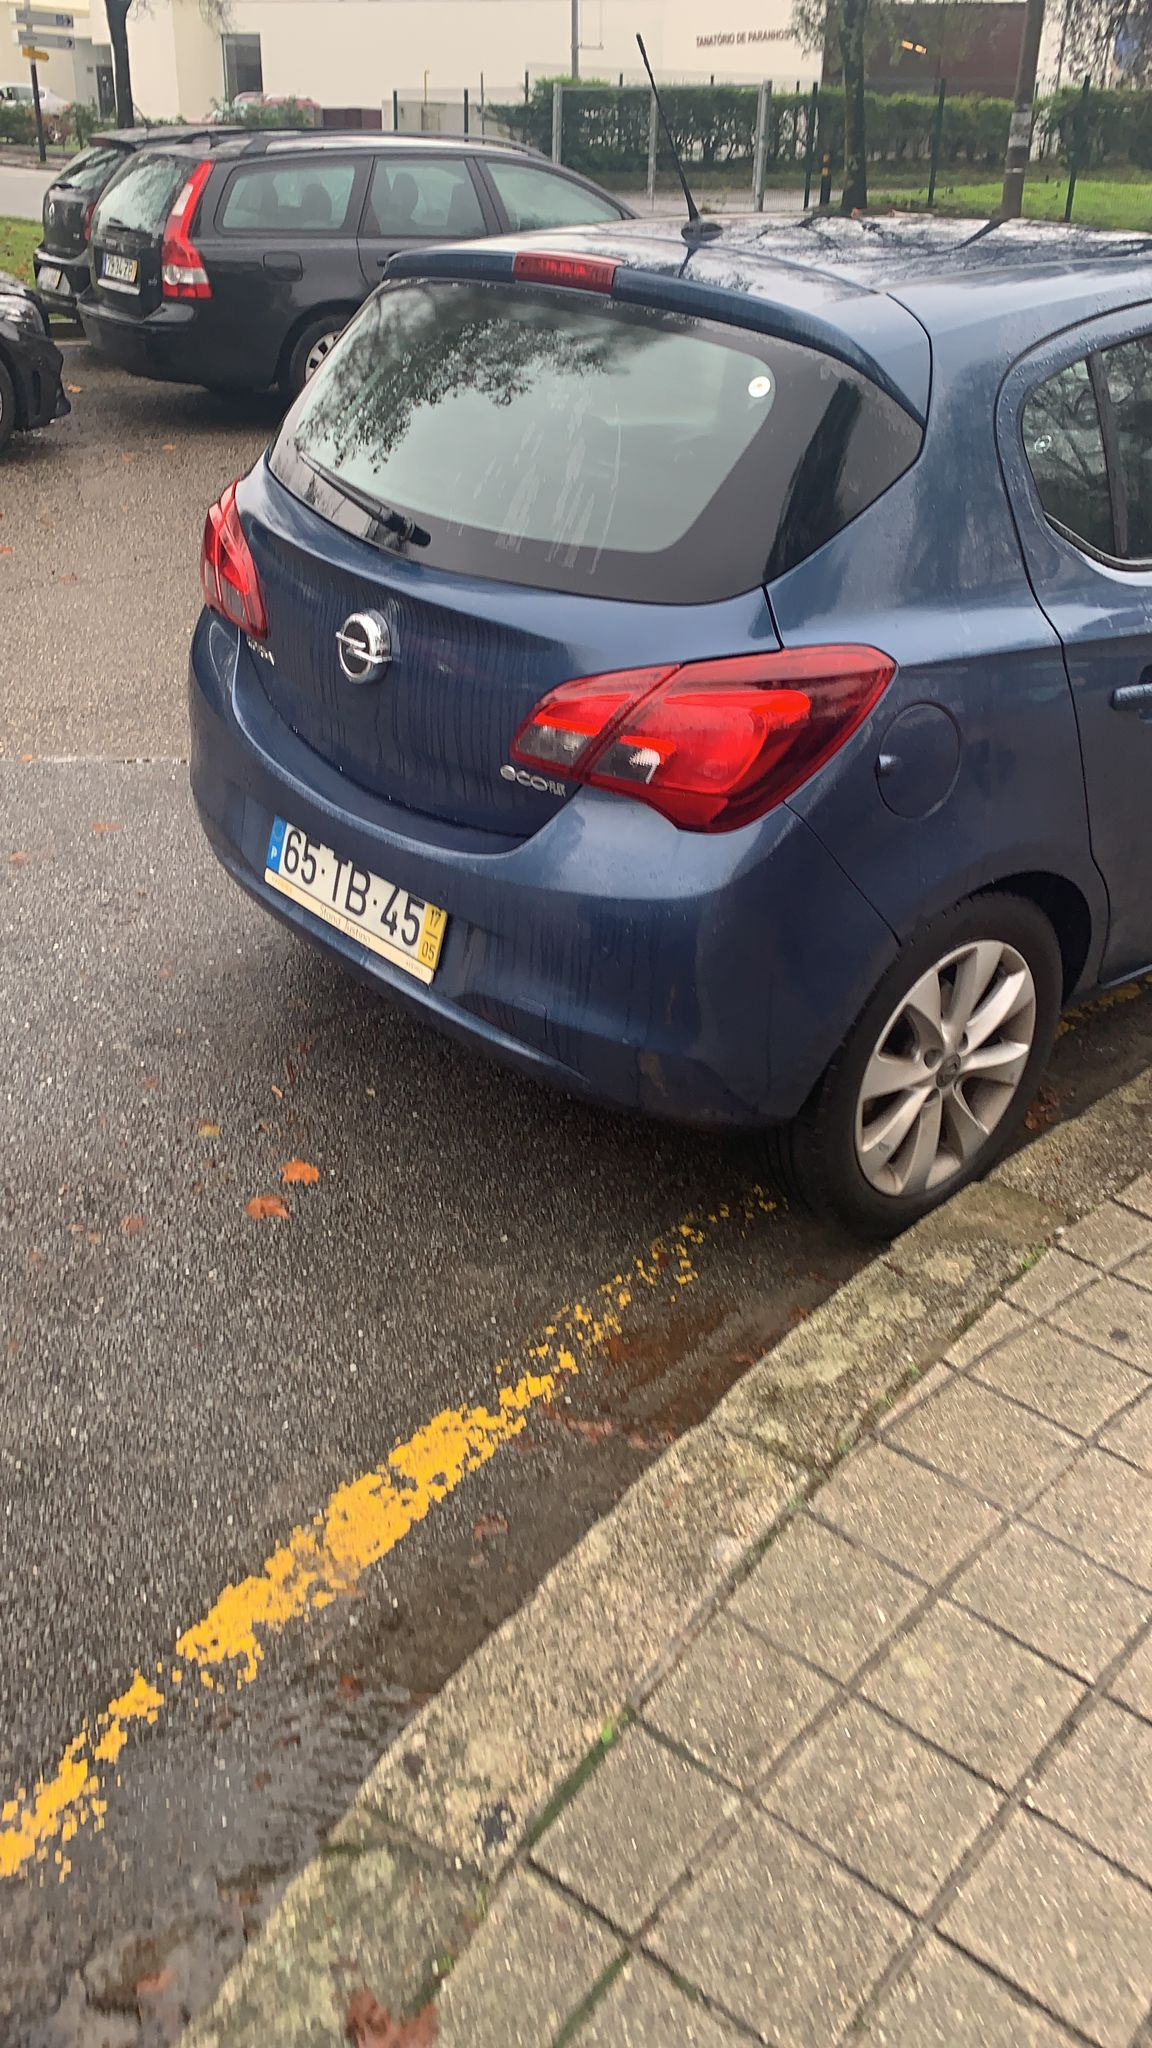carplate: (238, 802, 483, 995)
